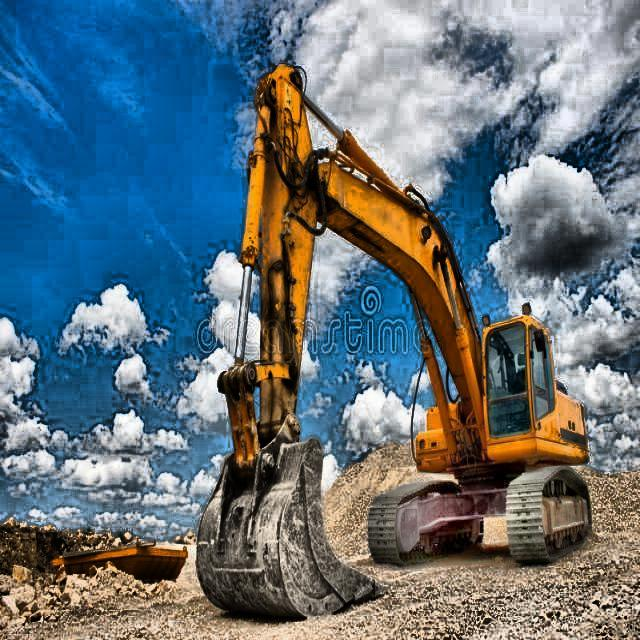excavator: (187, 55, 593, 622)
